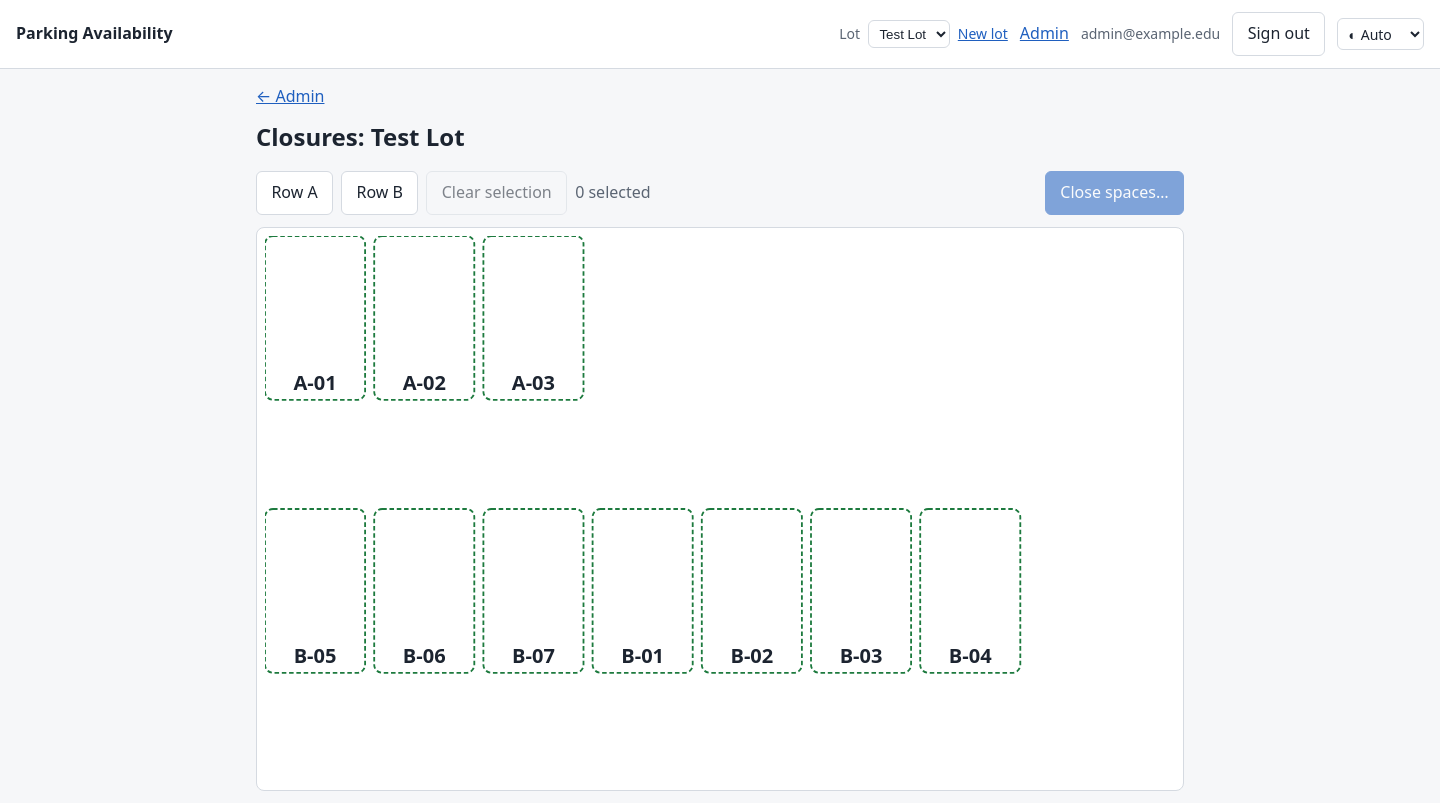
Scenario: closing spaces › selects a row and posts the closure
Step 1. Click the button "Row B" → (380, 193), box [341,171,418,215]
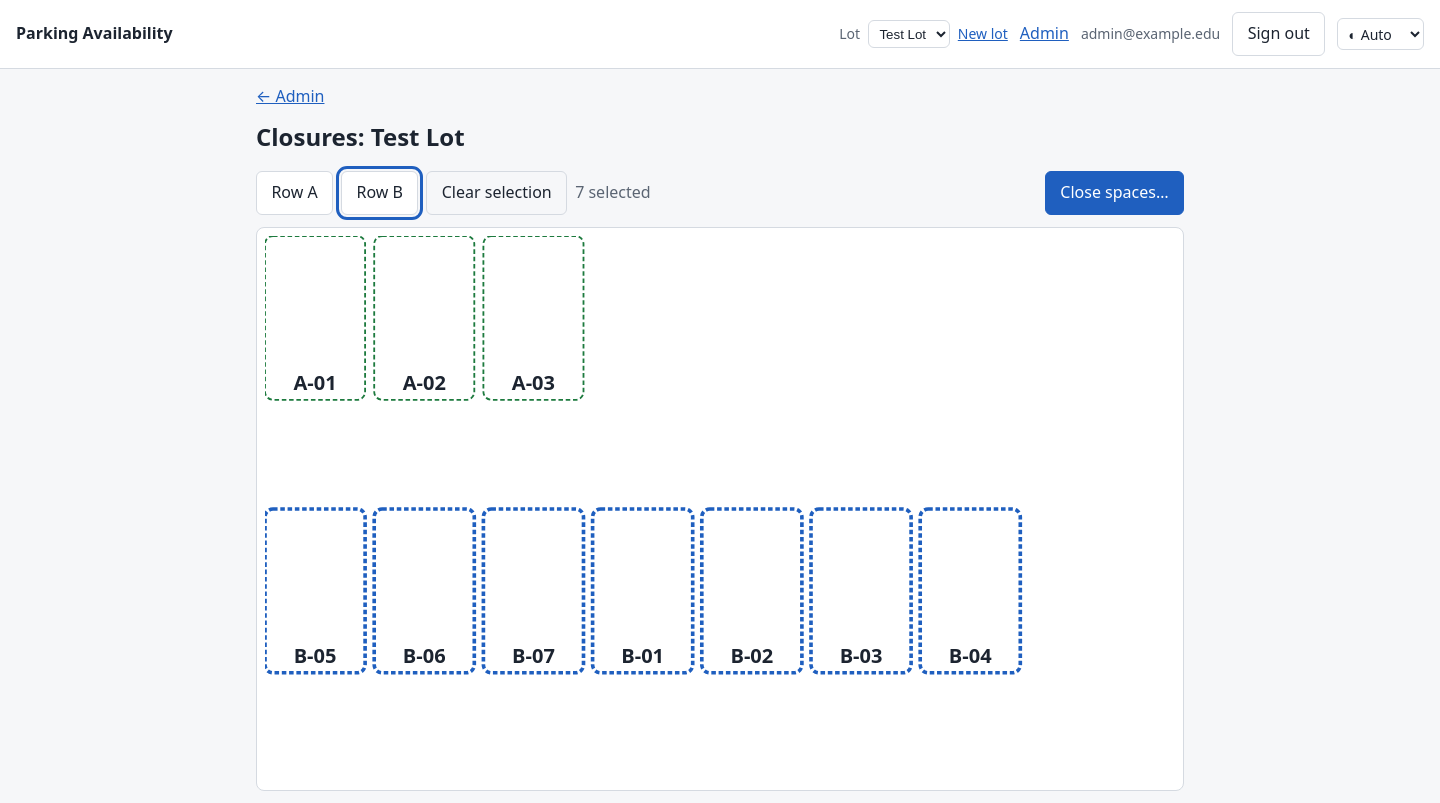
Expected: the text "7 selected" is shown, [575,181,651,205]
Step 2. Click the button "Close spaces…" → (1114, 193), box [1045,171,1184,215]
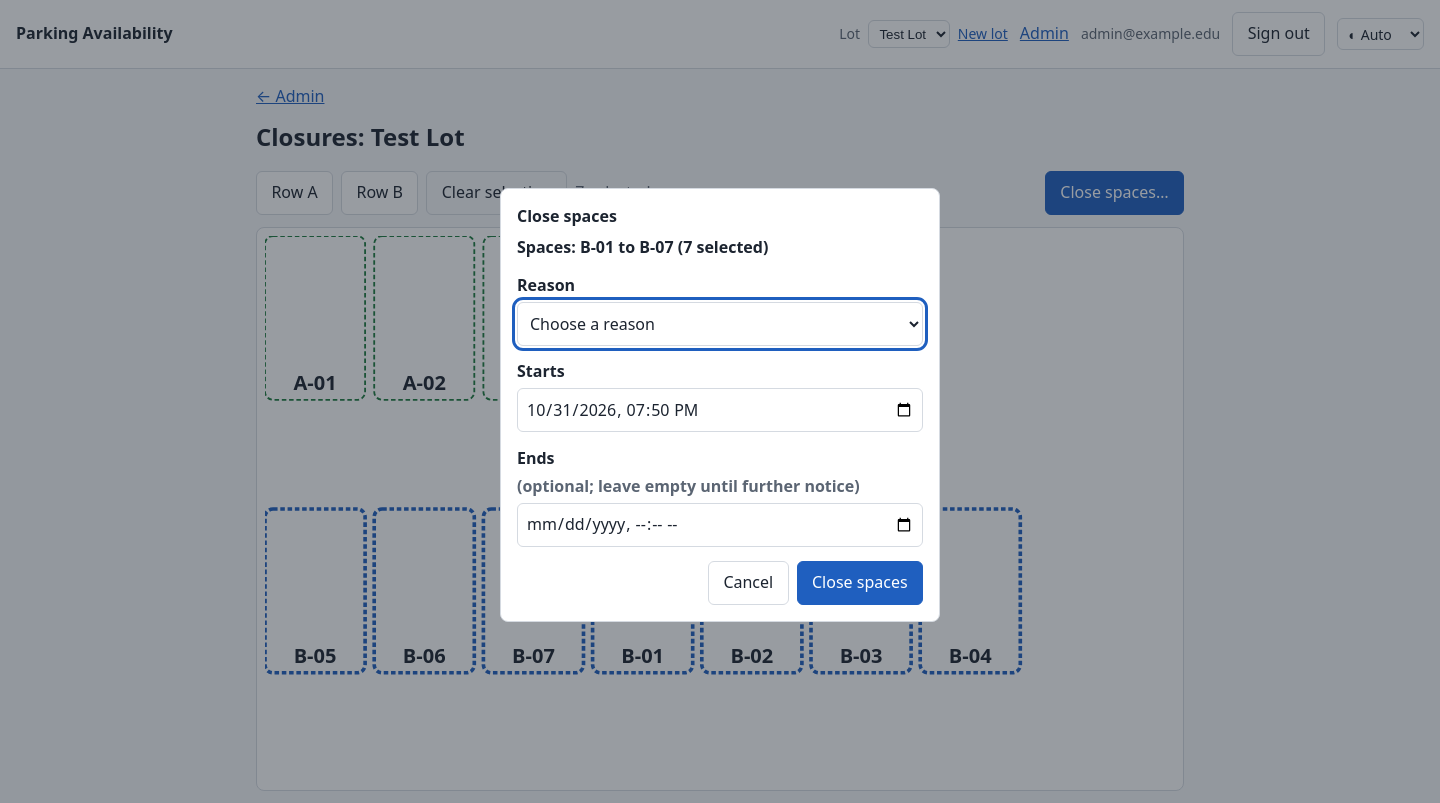
Expected: the text "Spaces: B-01 to B-07 (7 selected)" is shown, [517,236,768,258]
Step 3. Select "Event" in the dropdown labelled "Reason" → (720, 324), box [517,302,923,346]
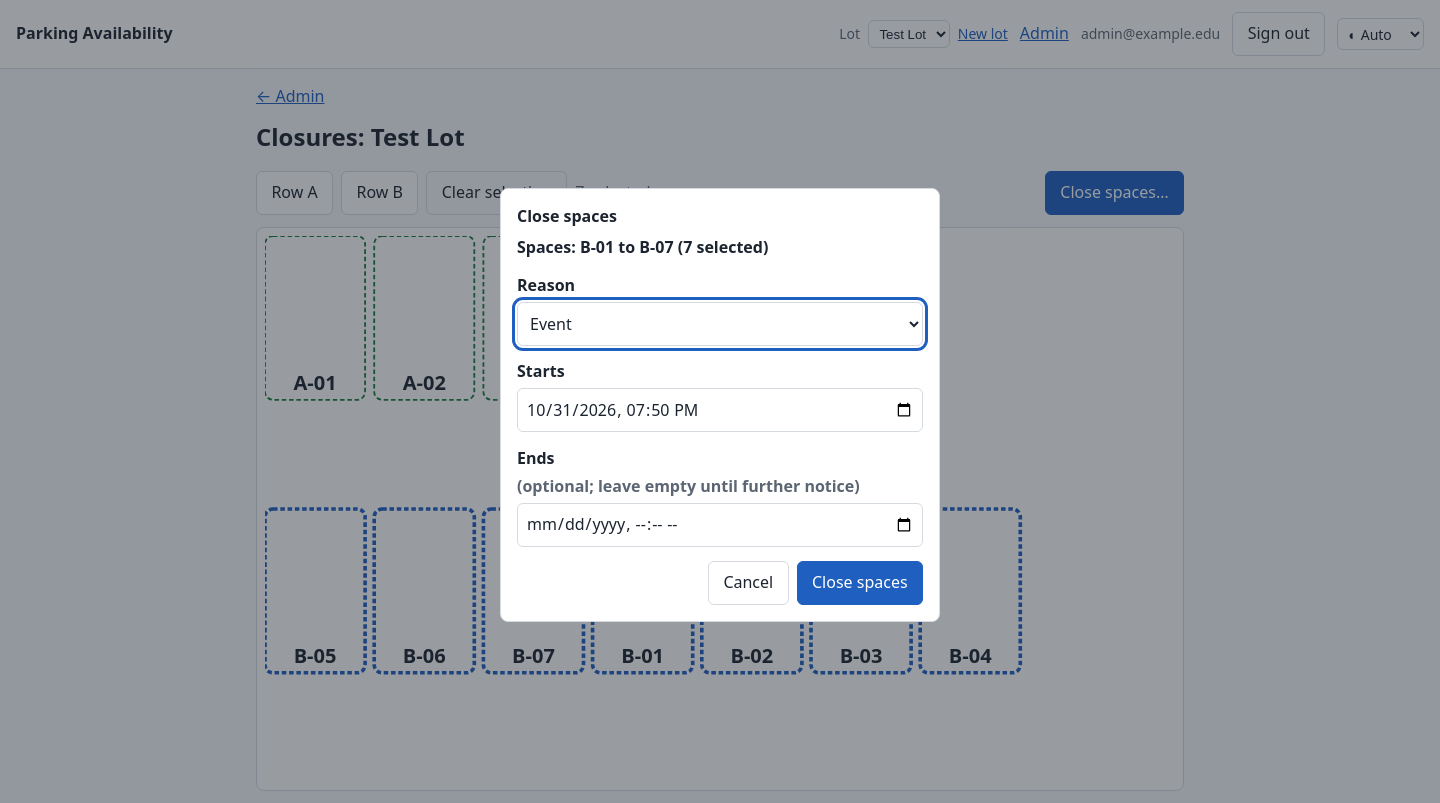
Step 4. Click the button "Close spaces" → (860, 583), box [797,561,923,605]
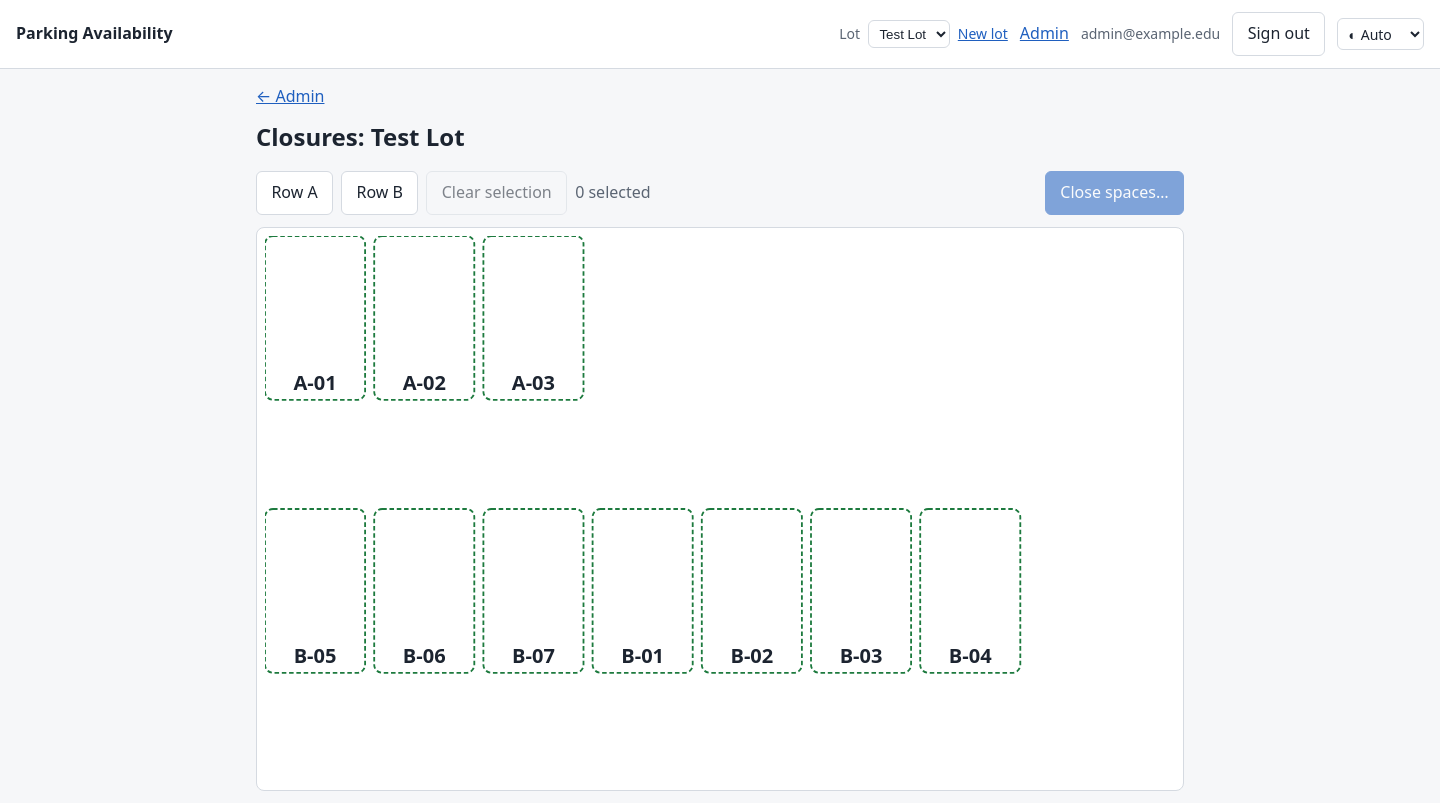
Expected: the dialog is gone
Expected: the text "0 selected" is shown, [575,181,651,205]
